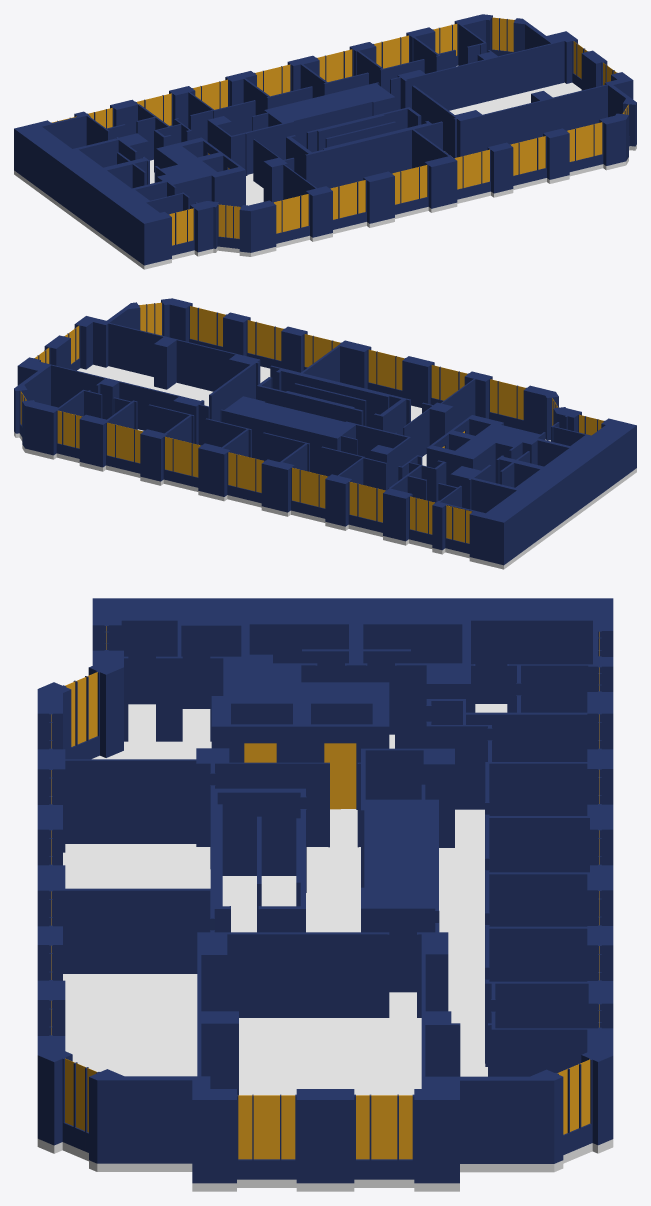
The model's file is 26W 3rd Floor.fbx.
3 renders of one model, top to bottom at view 1: azimuth 30°, elevation 25°; view 2: azimuth 150°, elevation 25°; view 3: azimuth 270°, elevation 25°, orthographic. The views are drawn at different scales.
Visible parts, largest first — view 1: Walls, Interior Member, Object_1; view 2: Walls, Interior Member, Object_1; view 3: Walls, Object_1, Interior Member.
Boxes of the visible parts, x1,y1,x2,y2 form: Walls: [14, 14, 636, 265]; Interior Member: [52, 17, 628, 245]; Object_1: [14, 65, 636, 269]; Walls: [14, 298, 636, 565]; Interior Member: [20, 302, 603, 543]; Object_1: [14, 364, 636, 569]; Walls: [37, 598, 613, 1183]; Object_1: [37, 704, 613, 1191]; Interior Member: [51, 626, 599, 1159].
Size of the model in its own units: 1548 by 751 by 132.
